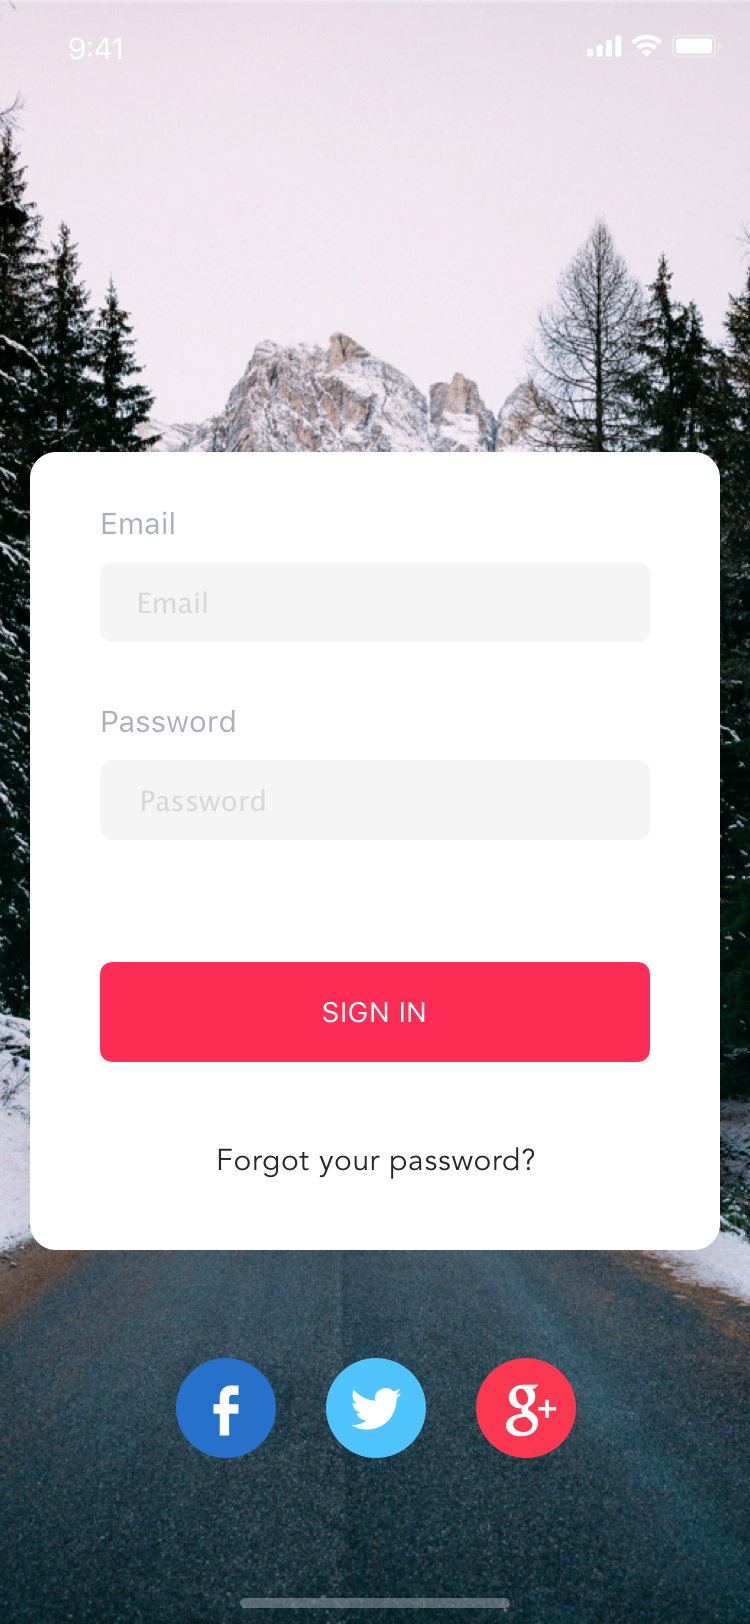BackgroundImage: (1, 1, 750, 1624)
Card: (30, 452, 720, 1251)
EditText: (100, 562, 651, 643), (100, 760, 651, 841)
Icon: (475, 1358, 577, 1459), (326, 1358, 427, 1459), (176, 1358, 277, 1458)
Text: (219, 1147, 535, 1180), (103, 711, 236, 734), (142, 789, 266, 812), (103, 512, 175, 535), (139, 591, 208, 614)
TextButton: (100, 962, 651, 1063)
UpperTaskBar: (69, 34, 722, 62)
